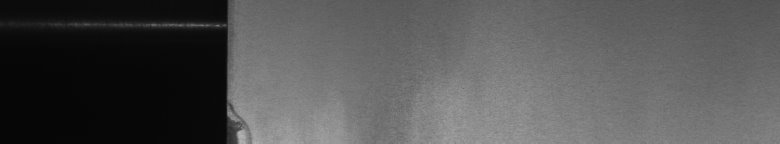hb: (236, 108, 256, 136)
